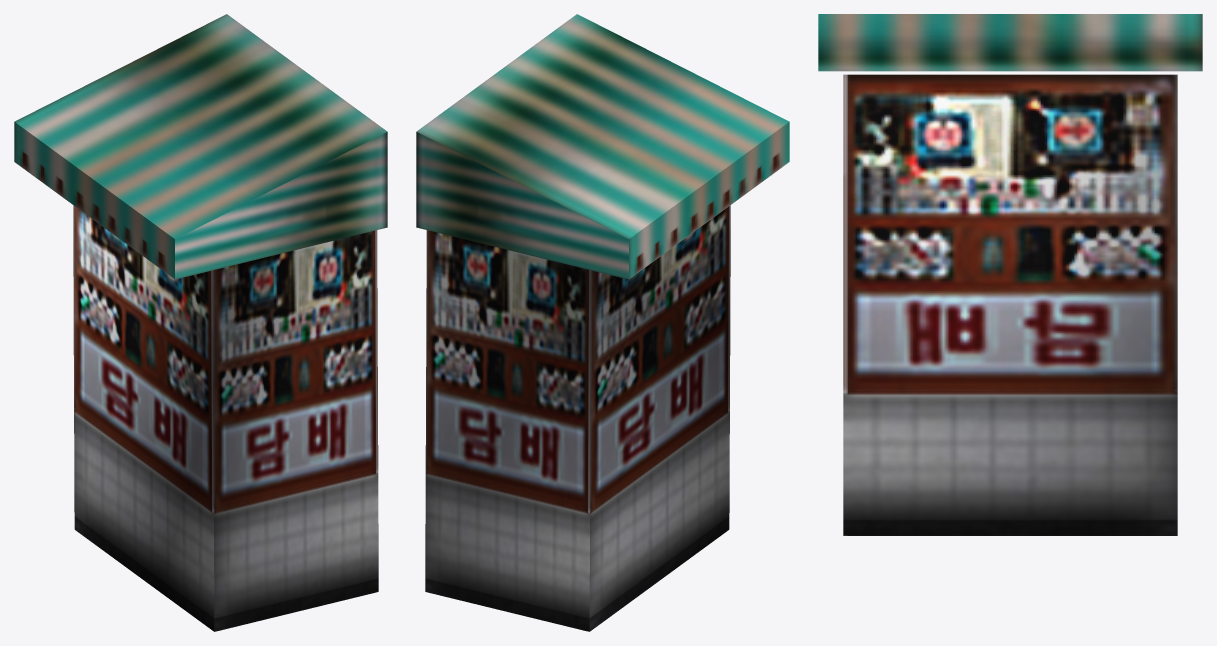
File: dambae_gagae.FBX
The picture shows the model from 3 angles, left to right: view 1: azimuth 30°, elevation 25°; view 2: azimuth 150°, elevation 25°; view 3: azimuth 270°, elevation 25°; orthographic projection. The views are drawn at different scales.
Parts seen in each view (by area): view 1: polySurface27, Object001; view 2: polySurface27, Object001; view 3: polySurface27, Object001.
Part boxes in pixels (bbox=[...]): polySurface27: bbox=[73, 205, 378, 631]; Object001: bbox=[14, 14, 387, 279]; polySurface27: bbox=[425, 205, 730, 631]; Object001: bbox=[416, 14, 789, 279]; polySurface27: bbox=[843, 74, 1177, 535]; Object001: bbox=[818, 14, 1202, 71].
Size of the model in its own units: 17.65 by 36.89 by 22.95.
Materials: 1 (1 with a texture image).
